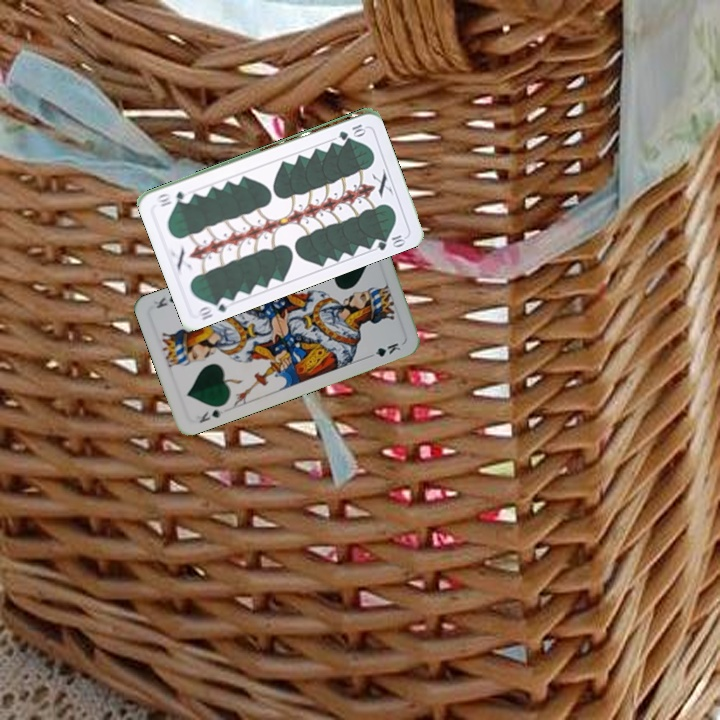G10: (195, 293, 234, 323), (334, 120, 367, 141)
GK: (195, 405, 226, 426)
